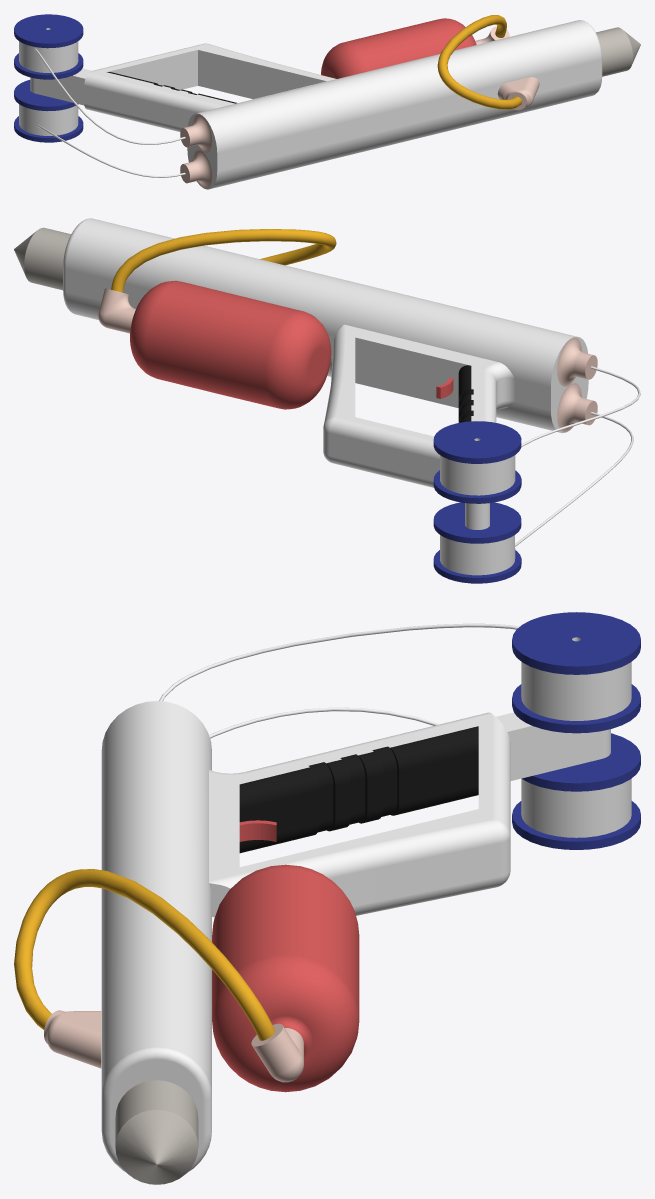
File: Welder v48.fbx
3 renders of one model, top to bottom at view 1: azimuth 30°, elevation 25°; view 2: azimuth 150°, elevation 25°; view 3: azimuth 270°, elevation 25°, orthographic. The views are drawn at different scales.
Parts seen in each view (by area): view 1: Body1; view 2: Body1; view 3: Body1.
Boxes of the visible parts, x1,y1,x2,y2 form: Body1: (14,14,640,189); Body1: (14,218,640,583); Body1: (14,612,640,1184).
Size of the model in its own units: 60.79 by 11.95 by 34.06.
